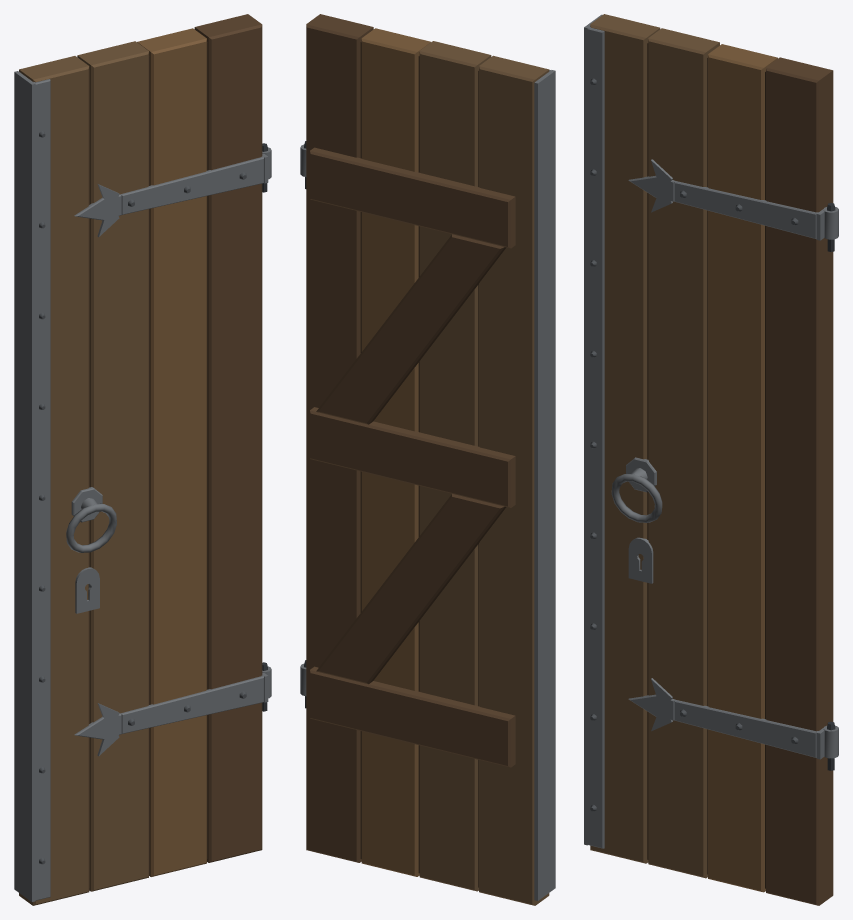
Rendered from SM_LPD_Door_DoorDoublePlank_01.fbx.
The picture shows the model from 3 angles, left to right: view 1: azimuth 30°, elevation 25°; view 2: azimuth 150°, elevation 25°; view 3: azimuth 330°, elevation 25°; orthographic projection.
Parts seen in each view (by area): view 1: SM_LPD_Door_DoorDoublePlank_01; view 2: SM_LPD_Door_DoorDoublePlank_01; view 3: SM_LPD_Door_DoorDoublePlank_01.
Boxes of the visible parts, x1=… form: SM_LPD_Door_DoorDoublePlank_01: x1=14, y1=14, x2=271, y2=905; SM_LPD_Door_DoorDoublePlank_01: x1=300, y1=14, x2=555, y2=905; SM_LPD_Door_DoorDoublePlank_01: x1=584, y1=14, x2=838, y2=905.
Bounding box in the file's own units: 0.795 × 2.55 × 0.1745.
